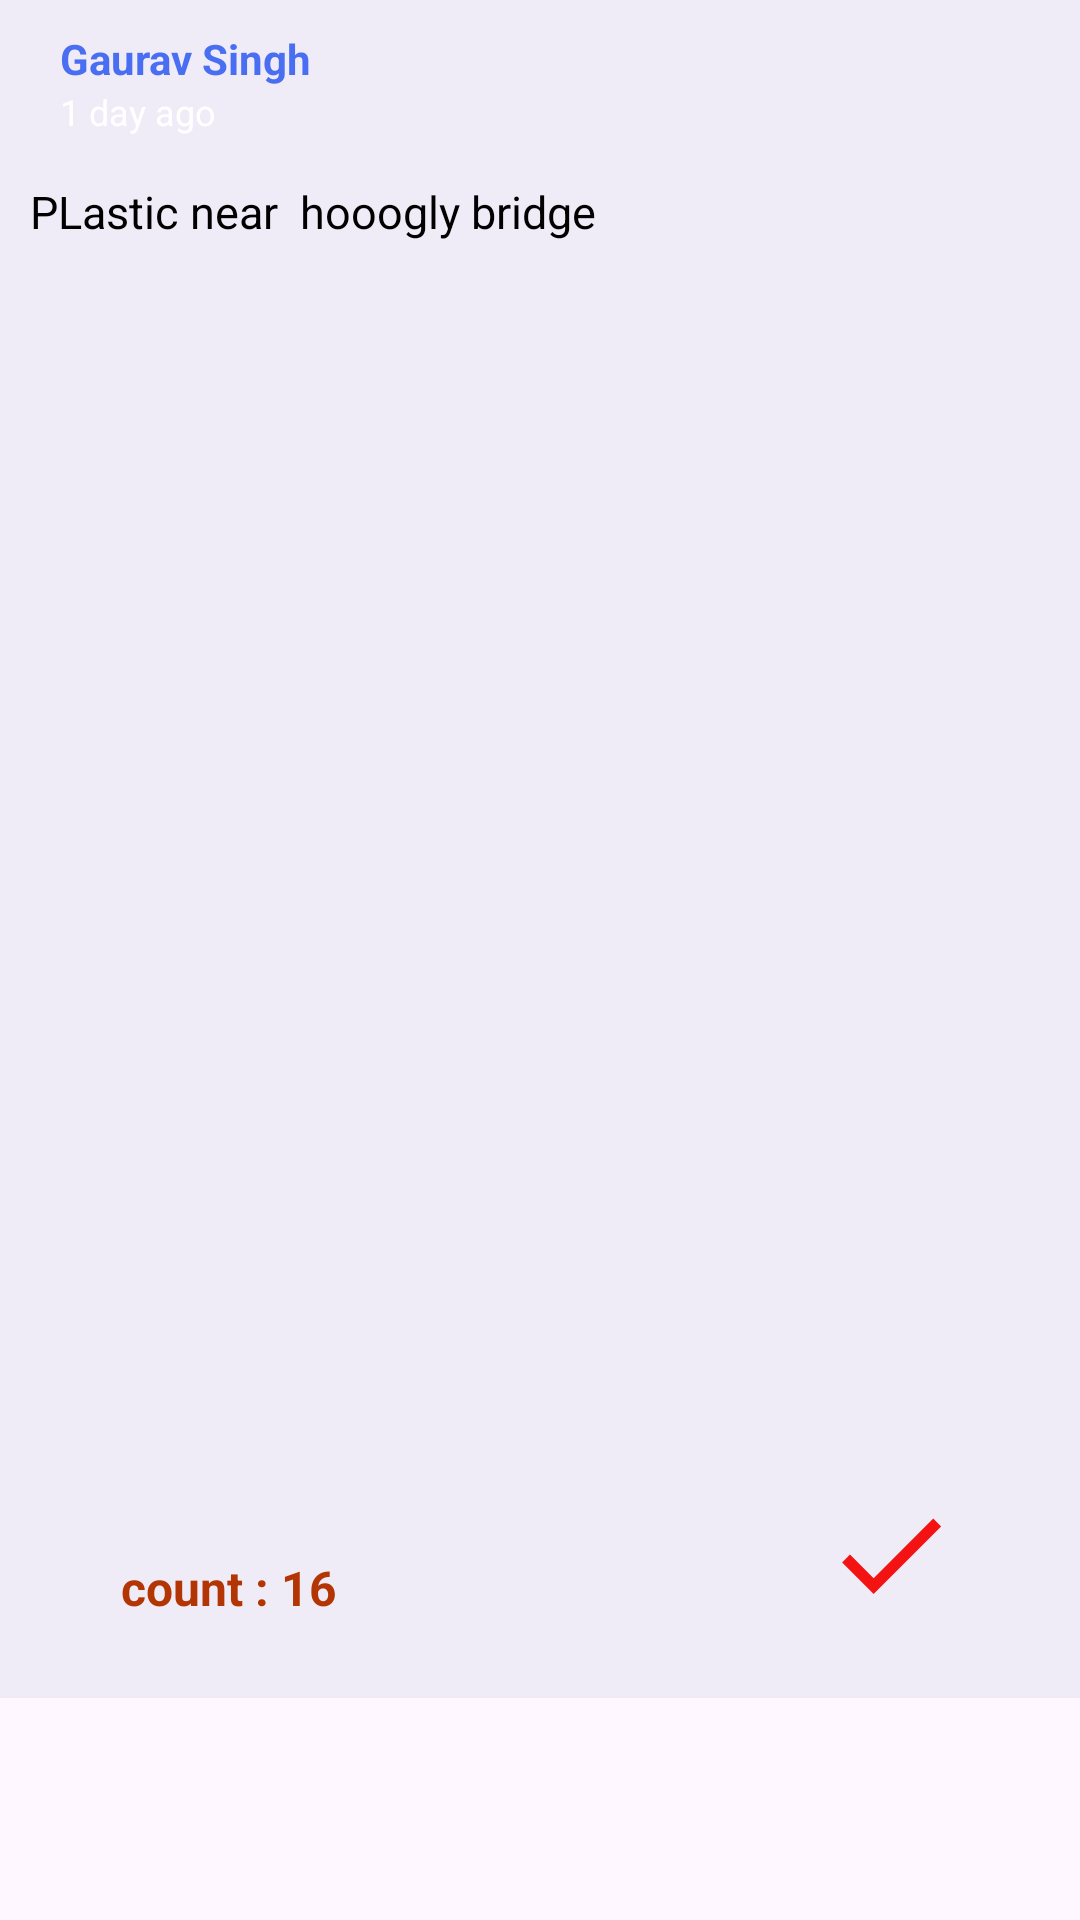

Icons on this 1080×1920 Android screen, each with the point to tap as point (x, y):
tick: point (891, 1556)
